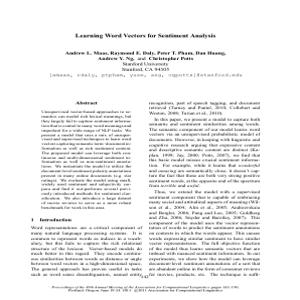text: (143, 99, 262, 278), (28, 97, 143, 278), (50, 30, 245, 86)
